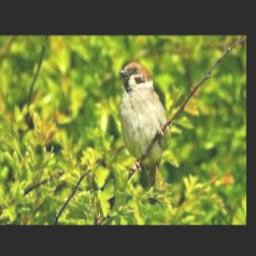Sparrow: (118, 62, 169, 205)
